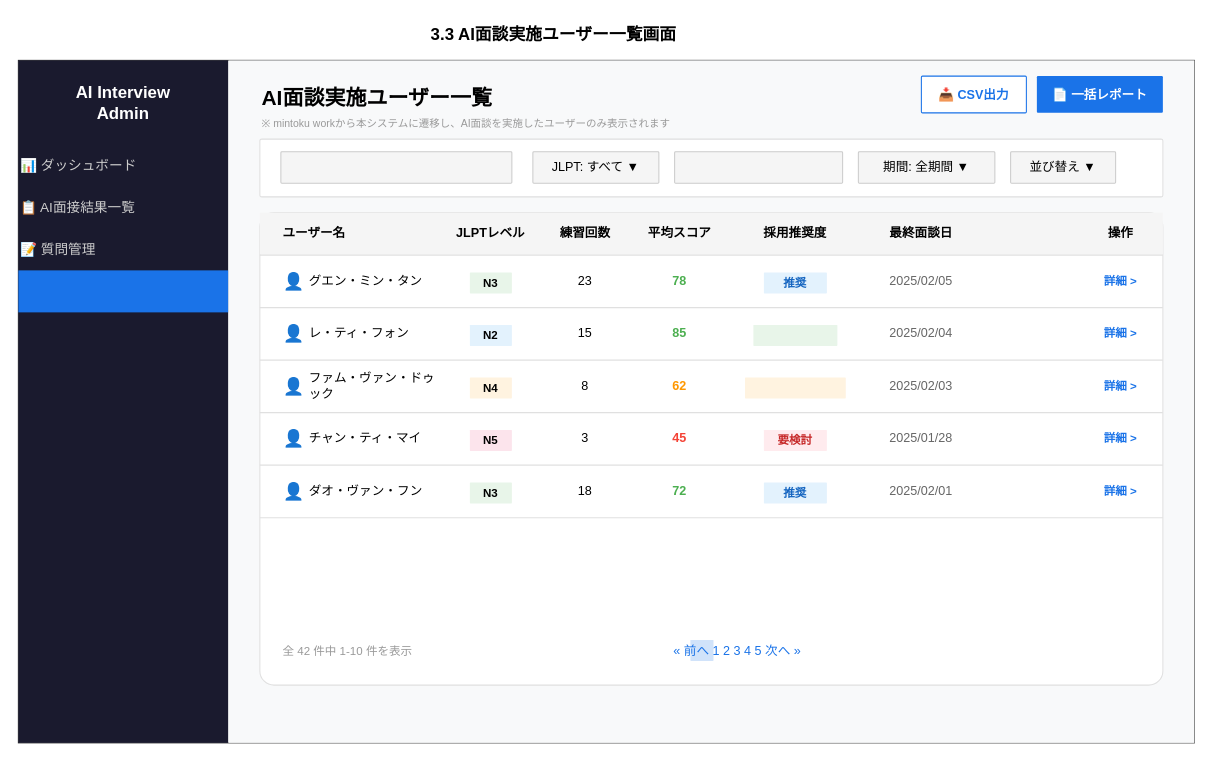
This 1213x761 diagram has some shape labels left out. Each missing label, with the centre of its shape:
"強く推奨" belongs at (795,334).
"採用推奨度: すべて ▼" belongs at (758,167).
"条件付き推奨" belongs at (794,387).
"👥 ユーザー一覧" belongs at (123,291).
"🔍 ユーザー名・メールで検索..." belongs at (396,167).
